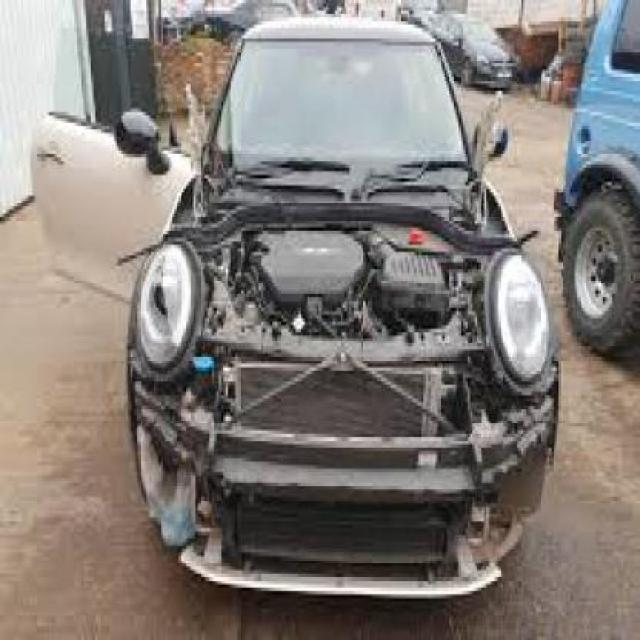damaged-front-bumper: (142, 389, 553, 594)
